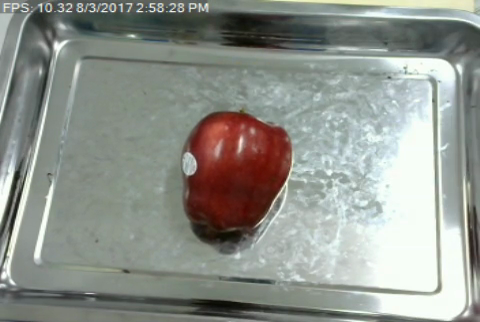Apple: (176, 108, 299, 239)
